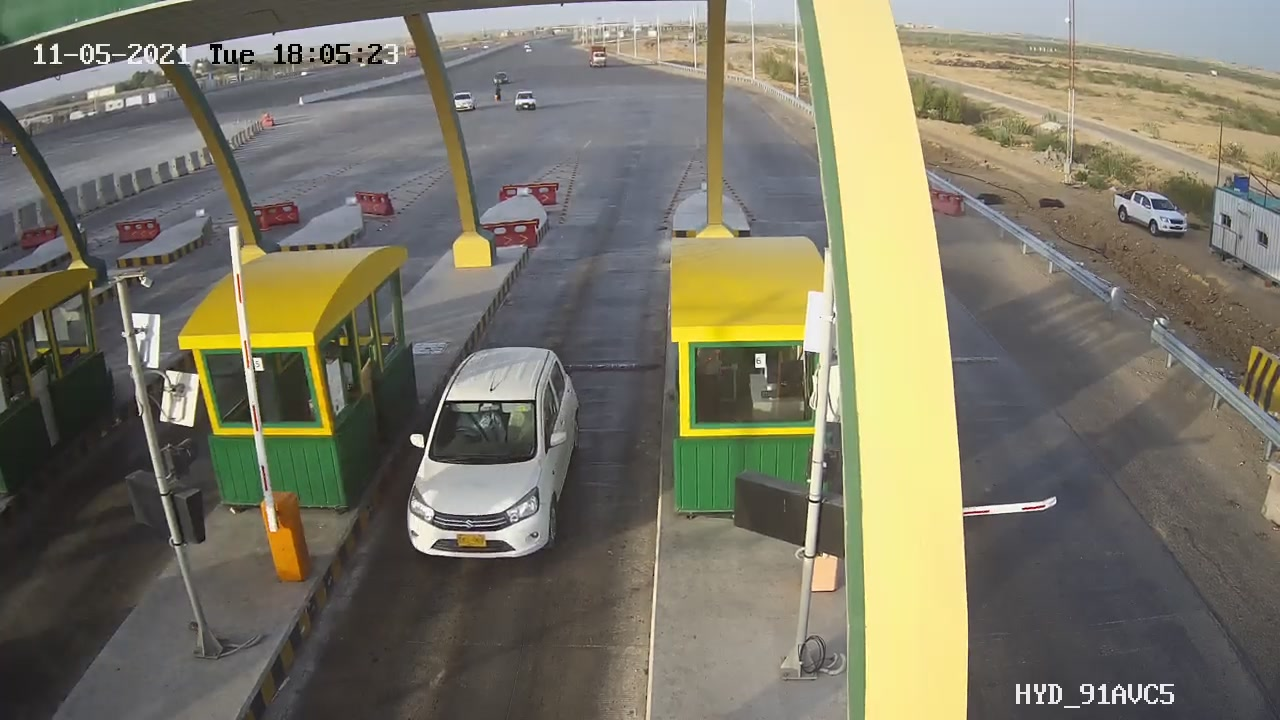F1: (398, 329, 585, 576)
